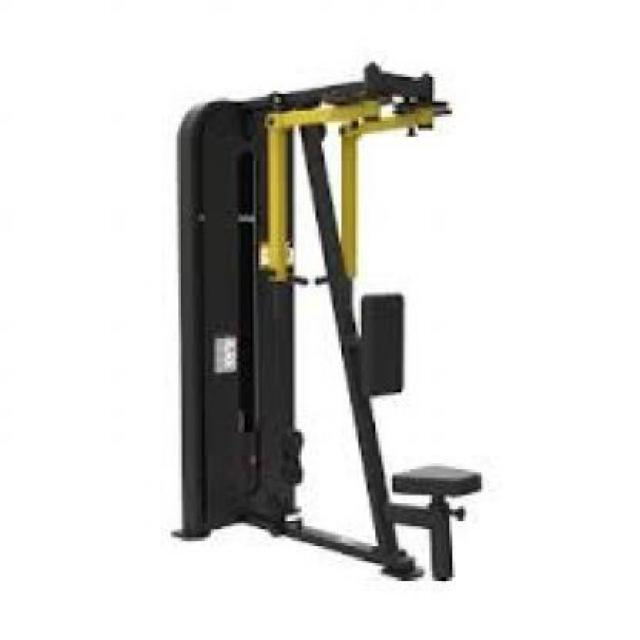chest fly machine: (158, 52, 517, 594)
